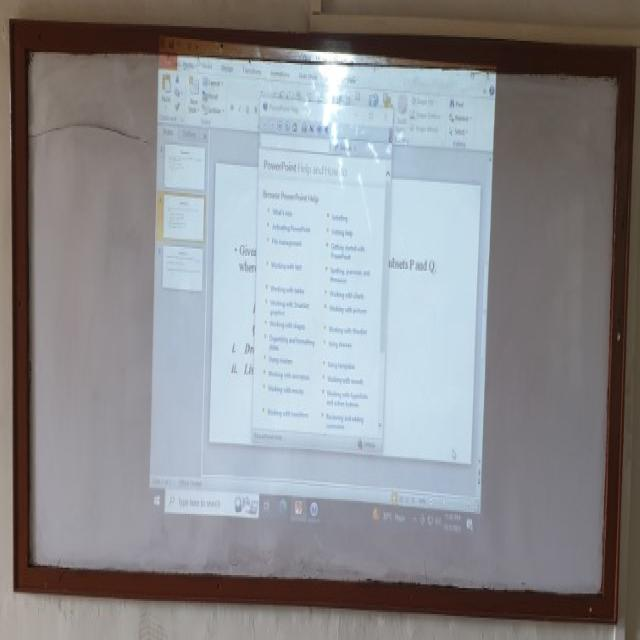Slide: (146, 35, 496, 549)
White-board: (19, 27, 628, 615)
